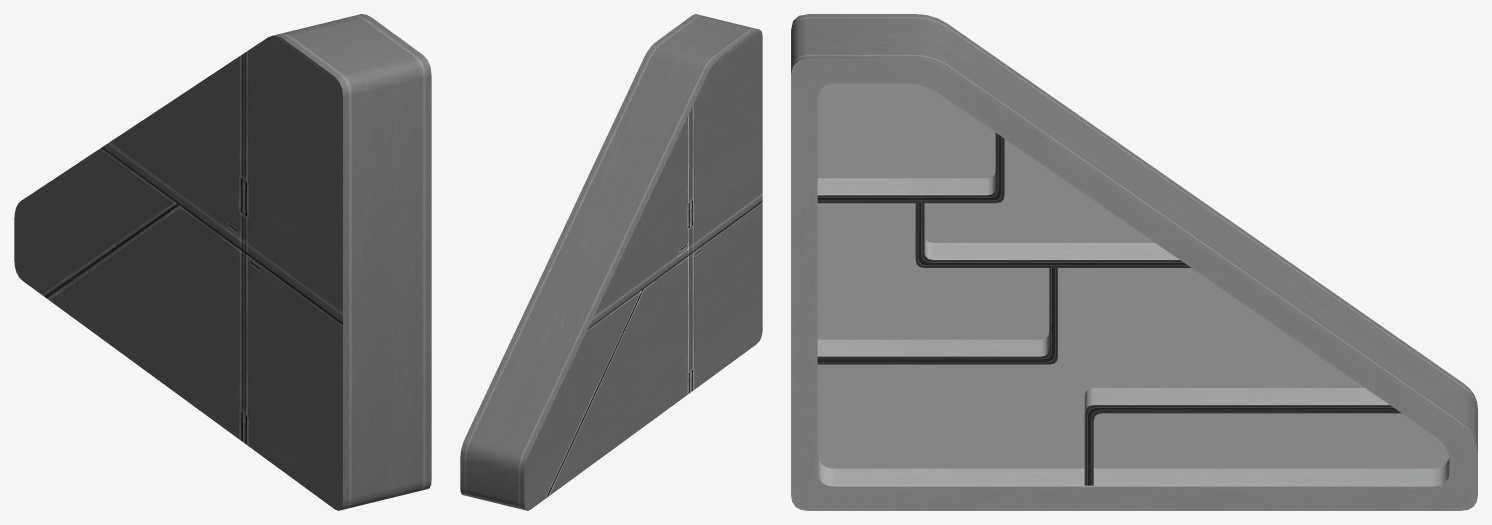
Rendered from Club_BarShelf_02.FBX.
The picture shows the model from 3 angles, left to right: view 1: azimuth 30°, elevation 25°; view 2: azimuth 150°, elevation 25°; view 3: azimuth 270°, elevation 25°; orthographic projection. The views are drawn at different scales.
Parts seen in each view (by area): view 1: Club_BarShelf_02; view 2: Club_BarShelf_02; view 3: Club_BarShelf_02.
Part boxes in pixels (x1,y1,x2,y2): Club_BarShelf_02: [14, 14, 431, 510]; Club_BarShelf_02: [460, 14, 762, 510]; Club_BarShelf_02: [791, 14, 1477, 510].
Size of the model in its own units: 0.6 by 2.8 by 3.86.
